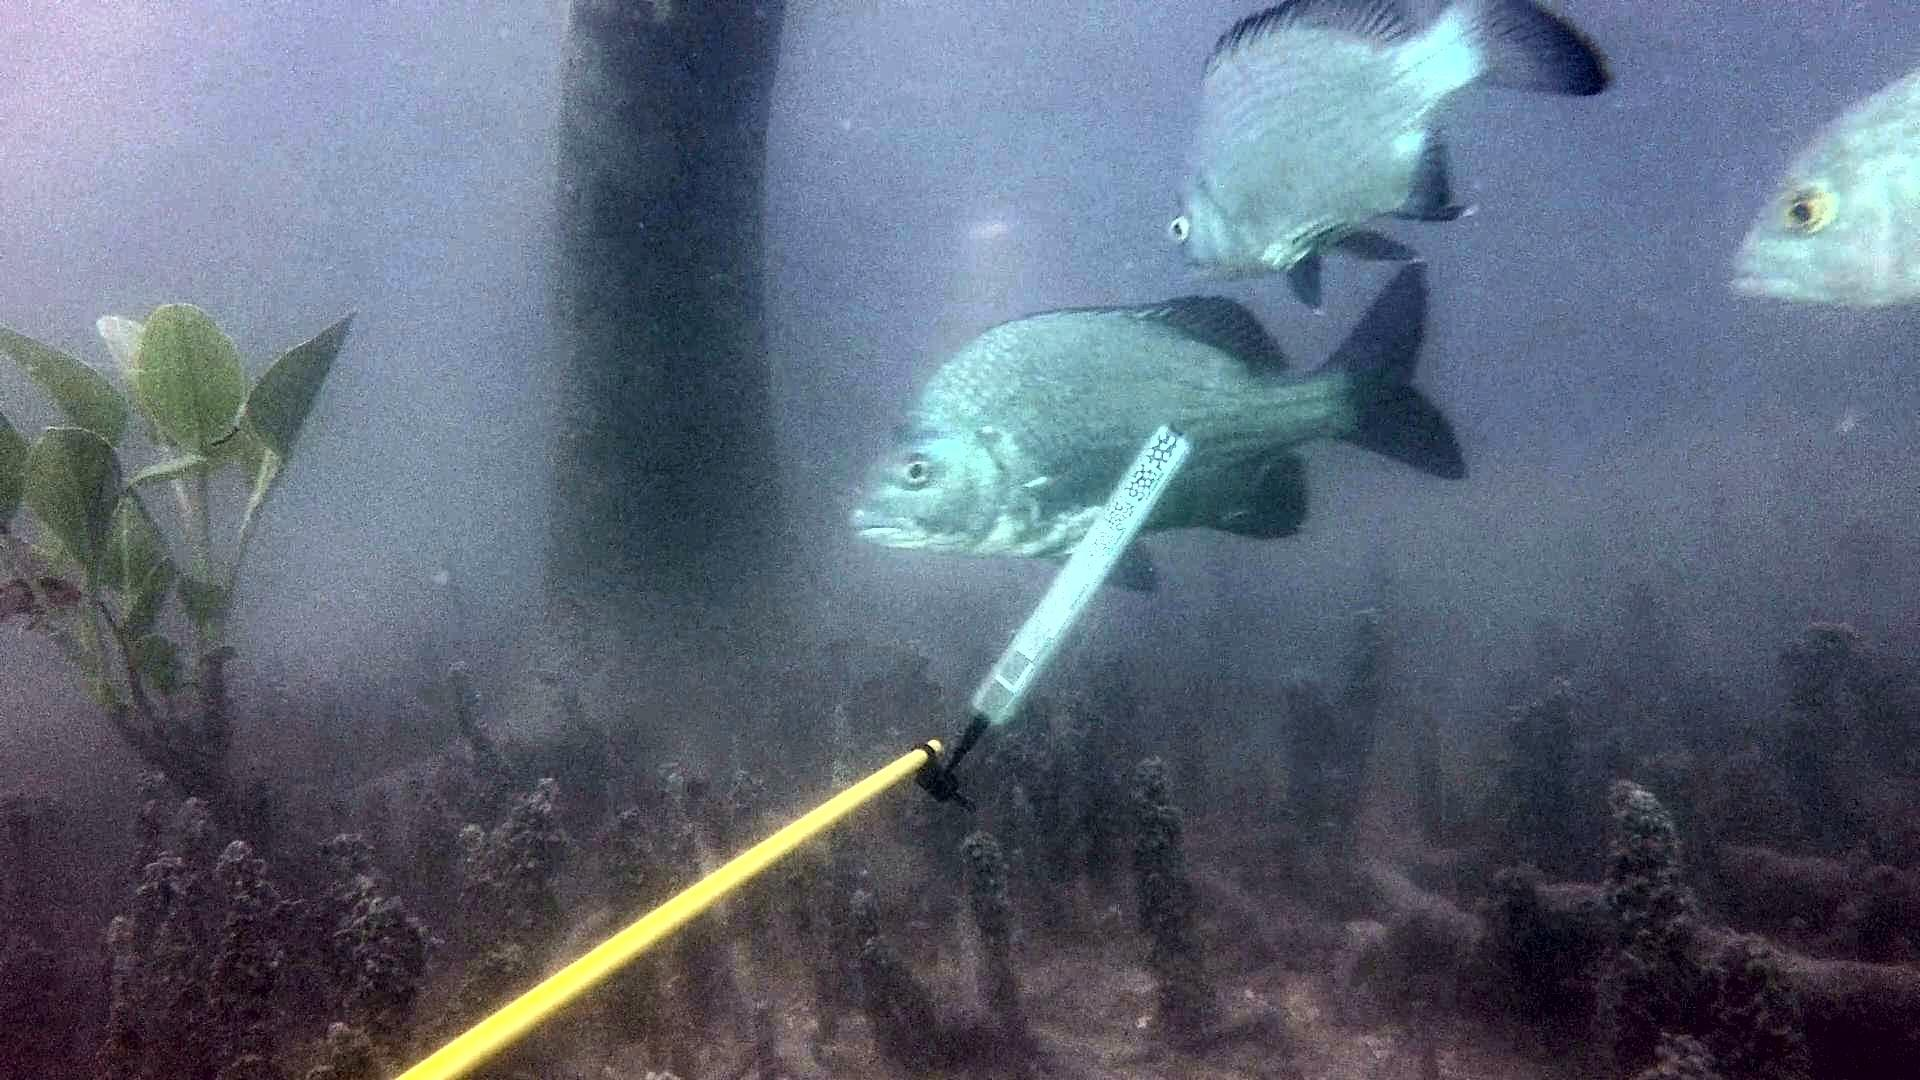acanthopagrus palmaris: (833, 260, 1503, 605), (1143, 0, 1635, 319)
caranx: (1721, 70, 1920, 340)
